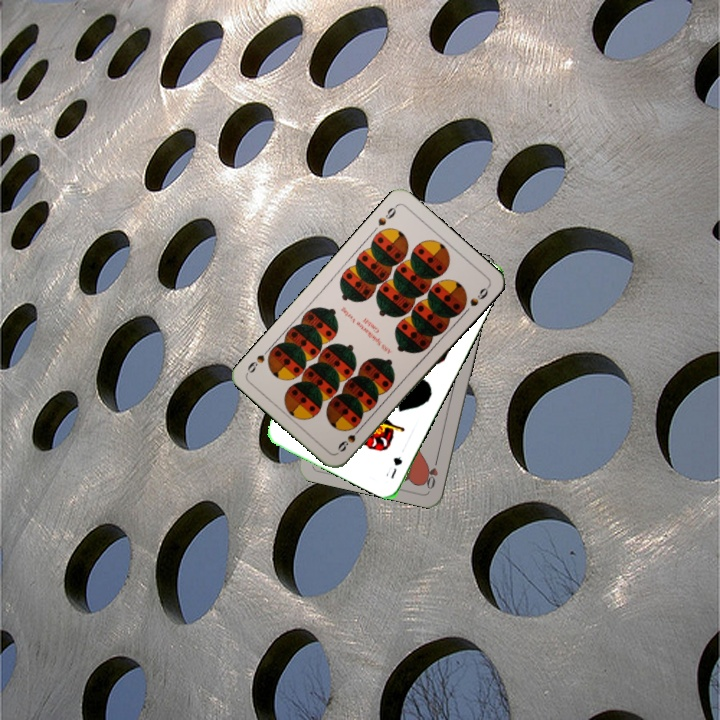GU: (381, 453, 405, 481)
HO: (422, 452, 441, 492)
S9: (333, 422, 365, 454), (374, 201, 400, 228)
